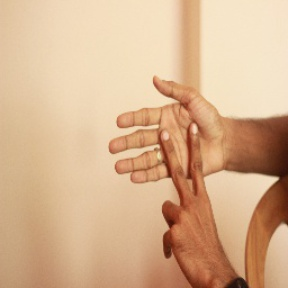N: (106, 75, 238, 243)
